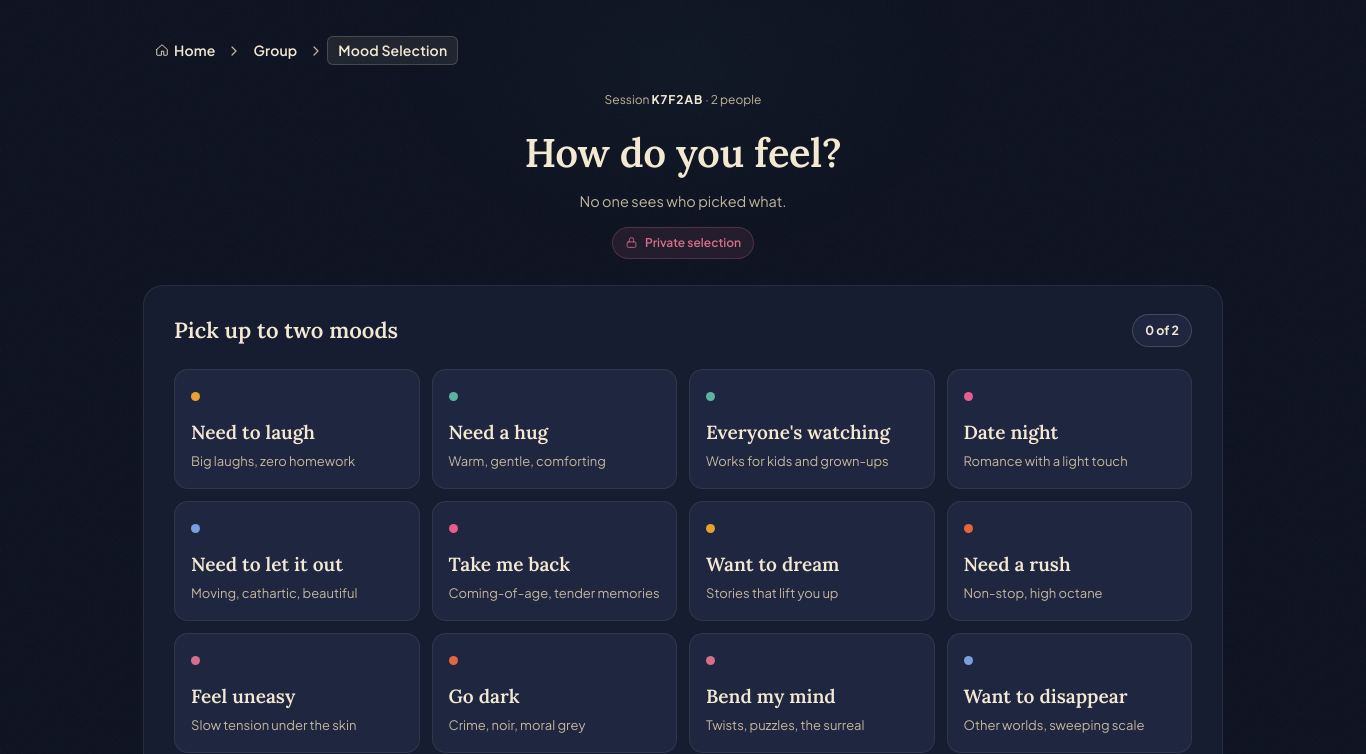
Test: Group mood page › waits for a read showing the host locked in before offering it
The width and height of the screenshot is (1366, 754).
Expected: the heading "How do you feel?" is shown, [525, 123, 842, 183]
Click the button "Need to laugh Big laughs, zero homework". click: (297, 429)
box: [174, 369, 420, 489]
(page scrolled)
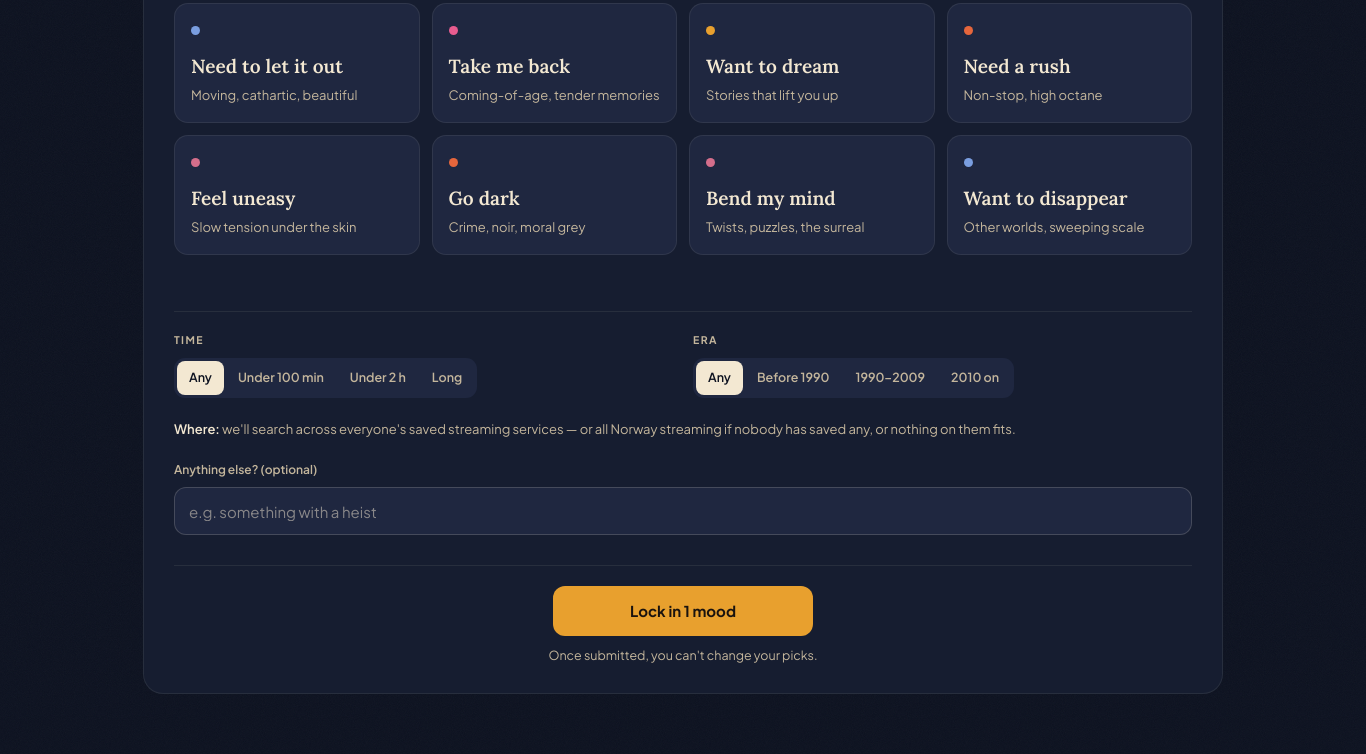
Click the button "Lock in 1 mood". click: (683, 611)
box: [553, 586, 813, 636]
(page scrolled)
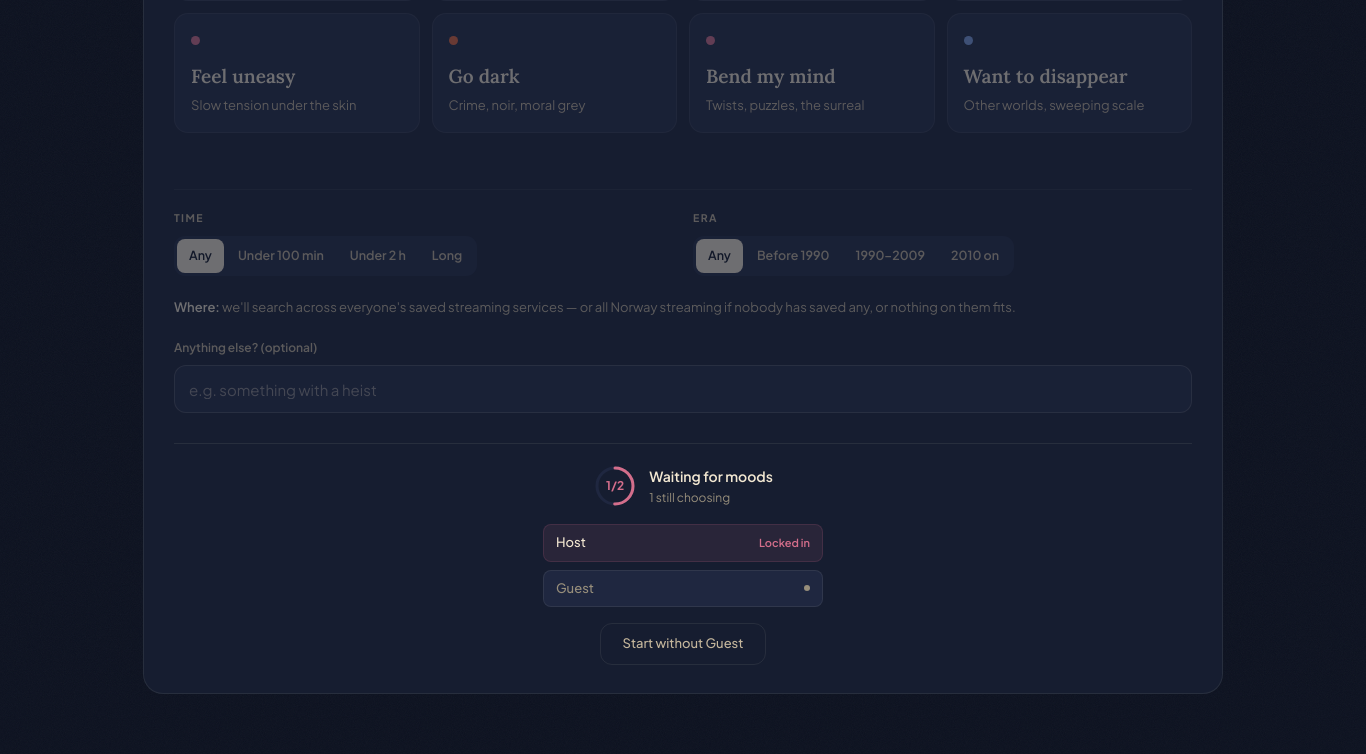
Result: the button "Start without Guest" is shown at [600, 623, 766, 664]
